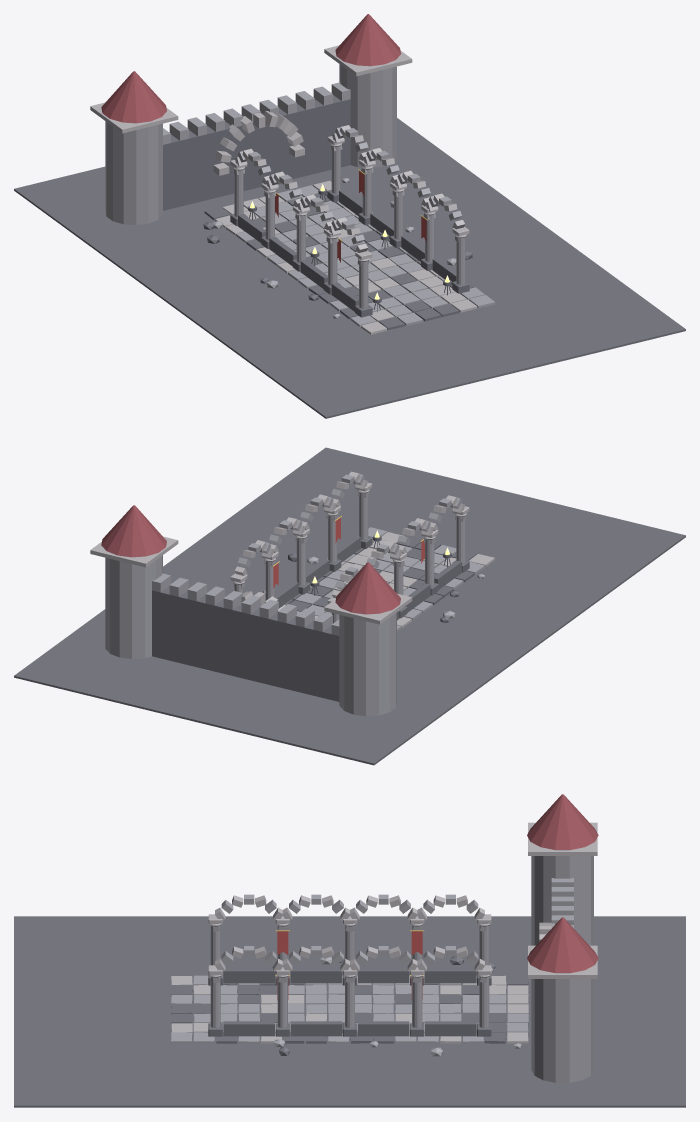
The model's file is arena.glb.
3 renders of one model, top to bottom at view 1: azimuth 30°, elevation 25°; view 2: azimuth 150°, elevation 25°; view 3: azimuth 270°, elevation 25°, orthographic. The views are drawn at different scales.
Visible parts, largest first — view 1: Env_StoneDark, Env_Stone, Env_StoneLight, Env_Roof; view 2: Env_StoneDark, Env_Stone, Env_StoneLight, Env_Roof; view 3: Env_StoneDark, Env_Stone, Env_StoneLight, Env_Roof, Env_Banner.
Boxes of the visible parts, bbox=[...] form: Env_StoneDark: bbox=[14, 95, 685, 418]; Env_Stone: bbox=[105, 64, 495, 326]; Env_StoneLight: bbox=[90, 45, 477, 334]; Env_Roof: bbox=[101, 14, 400, 123]; Env_StoneDark: bbox=[14, 447, 685, 765]; Env_Stone: bbox=[105, 474, 484, 716]; Env_StoneLight: bbox=[90, 471, 494, 627]; Env_Roof: bbox=[101, 505, 400, 614]; Env_StoneDark: bbox=[14, 916, 685, 1107]; Env_Stone: bbox=[171, 850, 593, 1082]; Env_StoneLight: bbox=[171, 822, 597, 1043]; Env_Roof: bbox=[527, 794, 598, 972]; Env_Banner: bbox=[277, 931, 422, 999].
Size of the model in its own units: 40 by 15.45 by 60.
